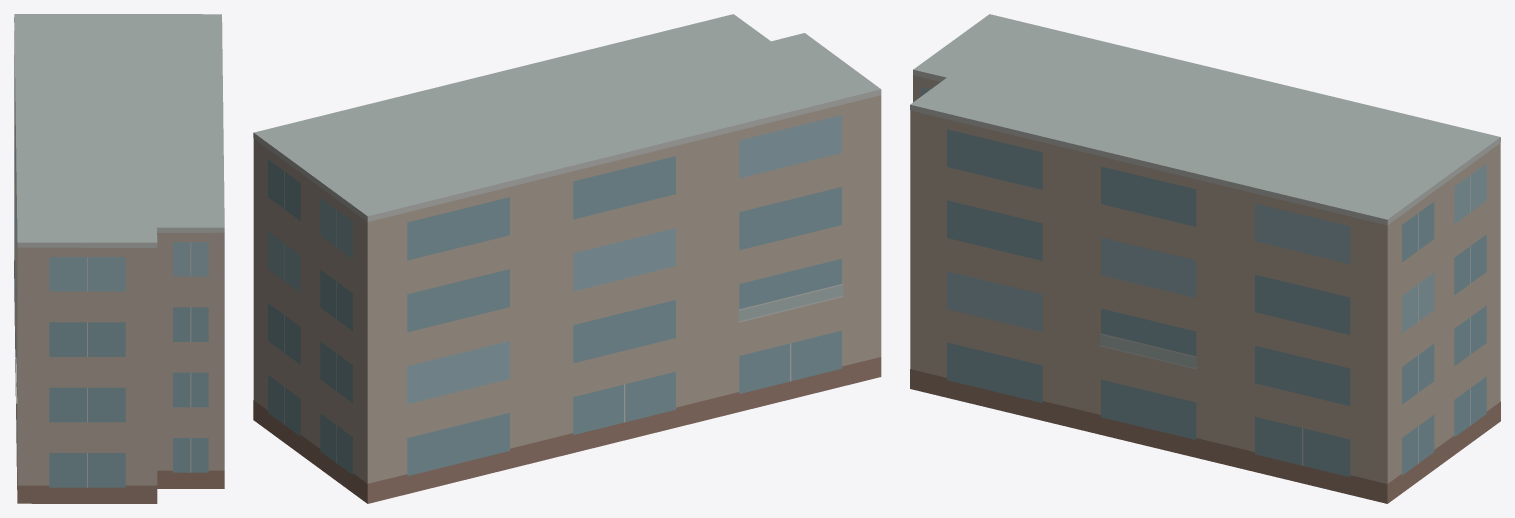
Rendered from survey-upis-32721498.glb.
3 views of the same model, side by side, from view 1: azimuth 30°, elevation 25°; view 2: azimuth 150°, elevation 25°; view 3: azimuth 270°, elevation 25° (orthographic). The views are drawn at different scales.
Visible parts, largest first — view 1: survey-upis-32721498.tmp; view 2: survey-upis-32721498.tmp; view 3: survey-upis-32721498.tmp.
Part boxes in pixels (x1,y1,x2,y2): survey-upis-32721498.tmp: [14, 14, 224, 503]; survey-upis-32721498.tmp: [253, 14, 881, 503]; survey-upis-32721498.tmp: [910, 14, 1500, 503].
Size of the model in its own units: 18.95 by 12.2 by 22.99.
